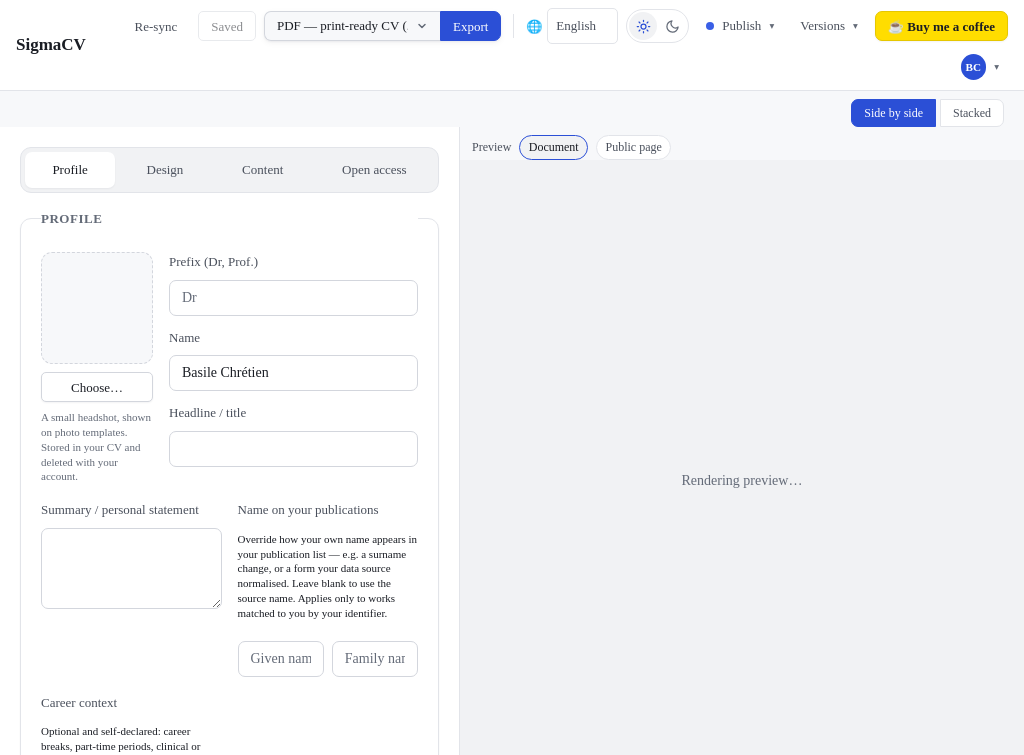
Test: CvWorkspace — publish nudge fires after a document export › surfaces the publish nudge after a successful PDF export, when unpublished
Click the button with class "export-btn" at [471, 26], box [440,11,501,41]
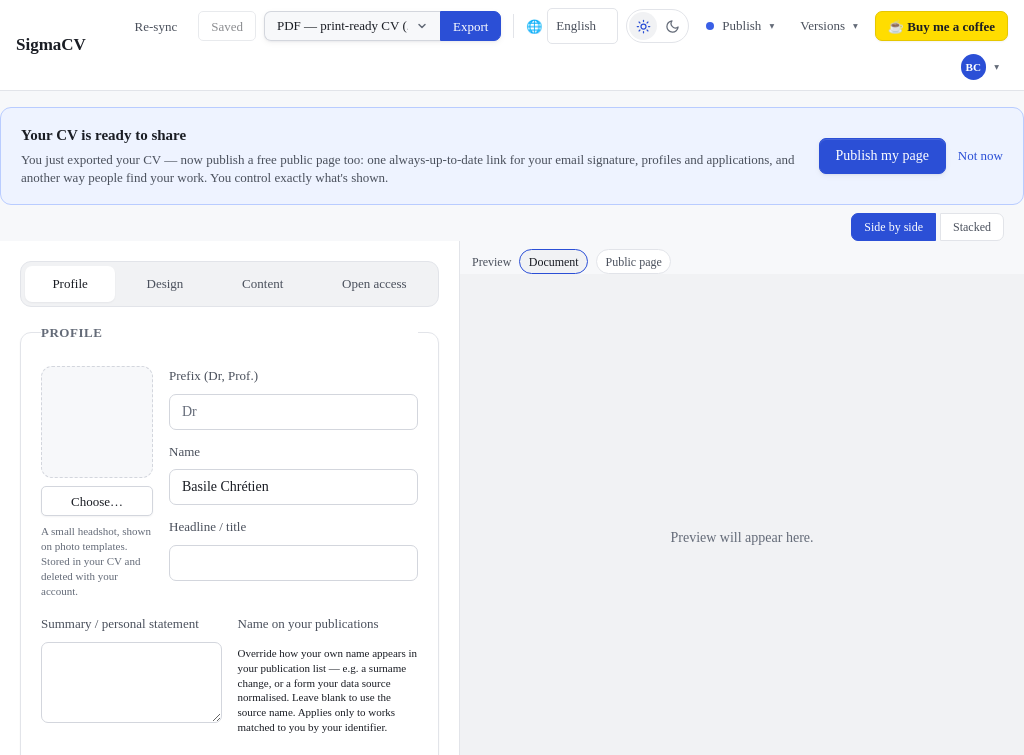
Result: the element named "Your CV is ready to share" is shown at [0,107,1023,205]
